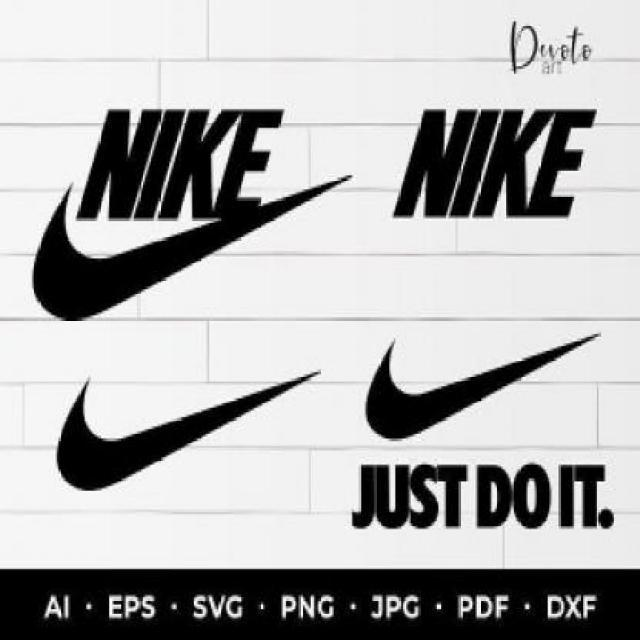Nike: (26, 99, 354, 321), (41, 365, 332, 493), (360, 325, 599, 443)
